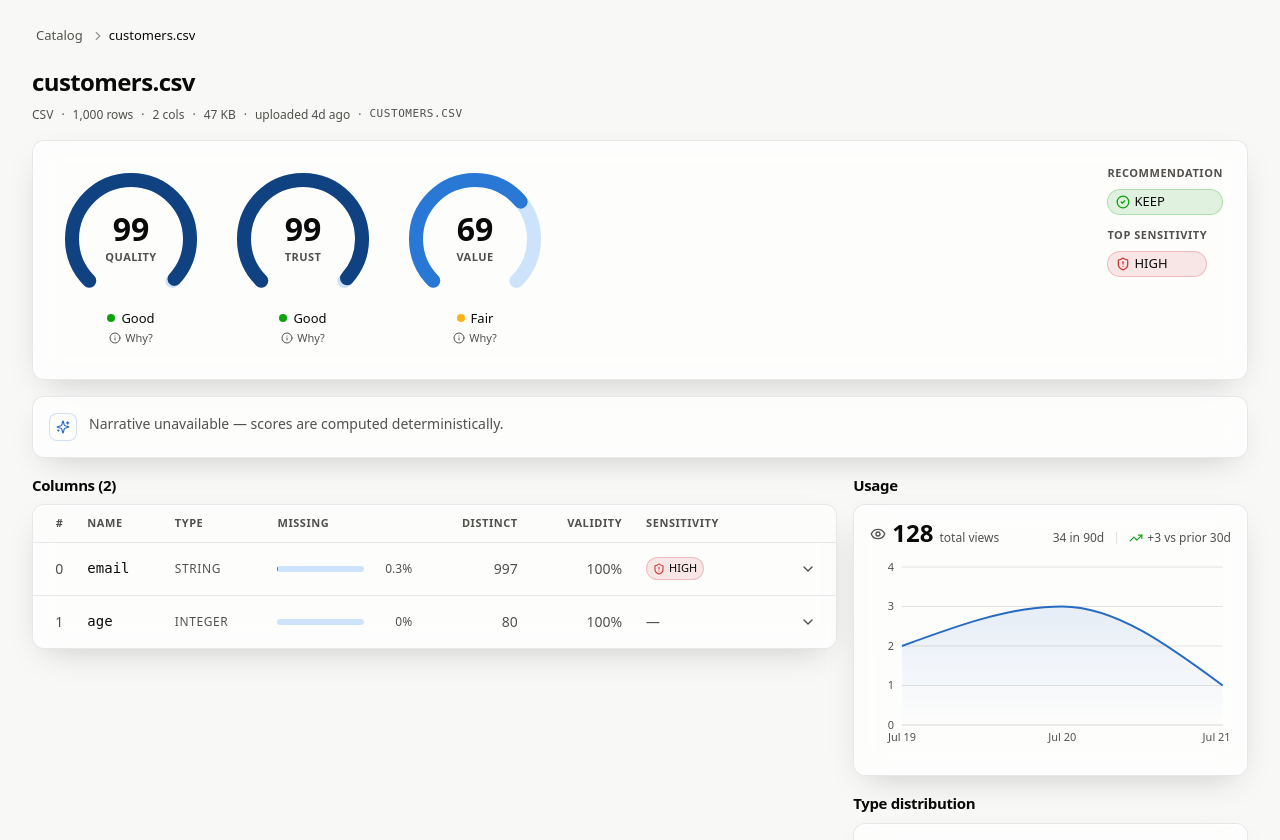
Scenario: DatasetDetailPage — explain this score › surfaces Quality's completeness and accuracy inputs inside the Trust breakdown
Expected: the heading "customers.csv" is shown, [32,64,195,98]
Click the button "99 Trust Good Why?" at [303, 260], box [229,164,377,354]
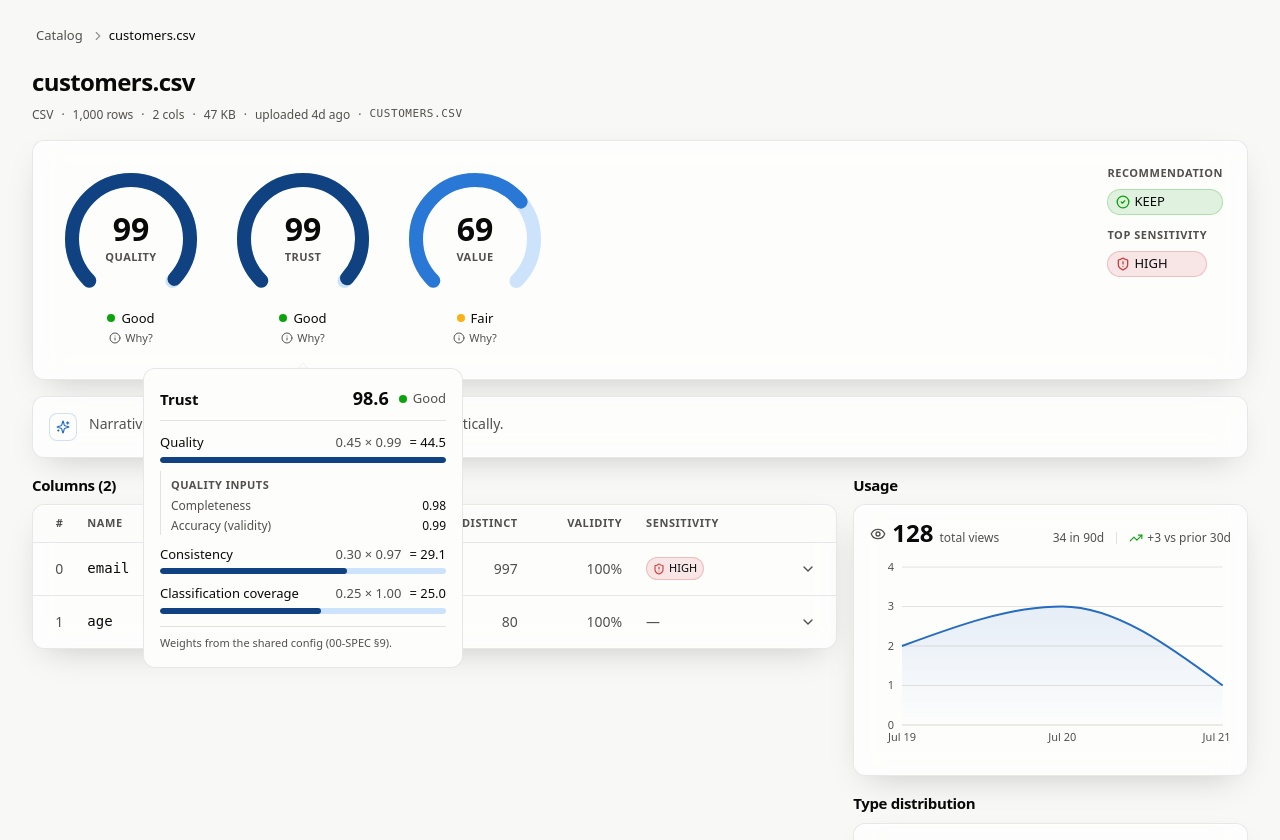
Expected: the text "Quality" next to "0.45" is shown, [160,433,204,451]
Expected: the text "Consistency" is shown, [160,544,233,564]
Expected: the text "Classification coverage" is shown, [160,584,299,604]
